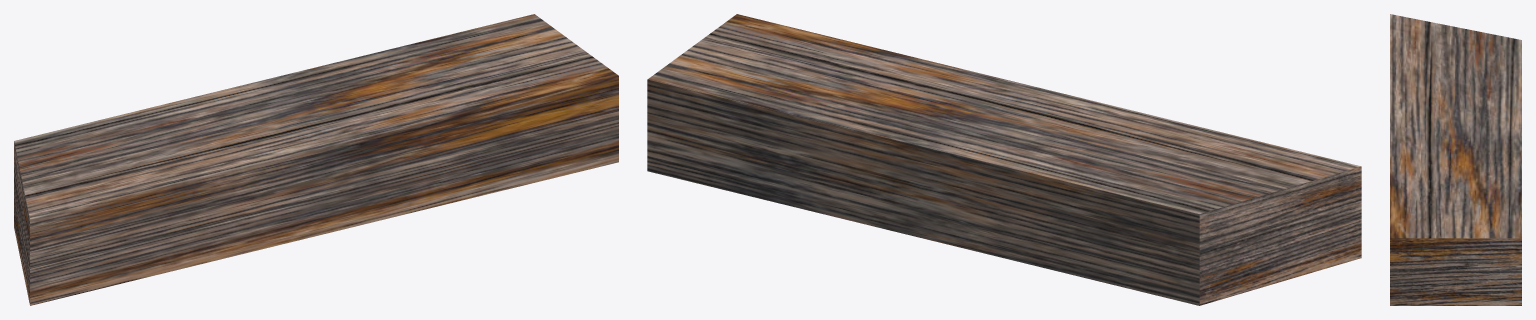
Rendered from Debris_woodScrap4.fbx.
The picture shows the model from 3 angles, left to right: view 1: azimuth 30°, elevation 25°; view 2: azimuth 150°, elevation 25°; view 3: azimuth 270°, elevation 25°; orthographic projection. The views are drawn at different scales.
Visible parts, largest first — view 1: pCube5; view 2: pCube5; view 3: pCube5.
Part boxes in pixels (<box>): pCube5: <box>14,14,618,305</box>; pCube5: <box>647,14,1361,305</box>; pCube5: <box>1390,14,1521,305</box>.
Size of the model in its own units: 7.12 by 1 by 1.77.
Materials: 1 (1 with a texture image).
